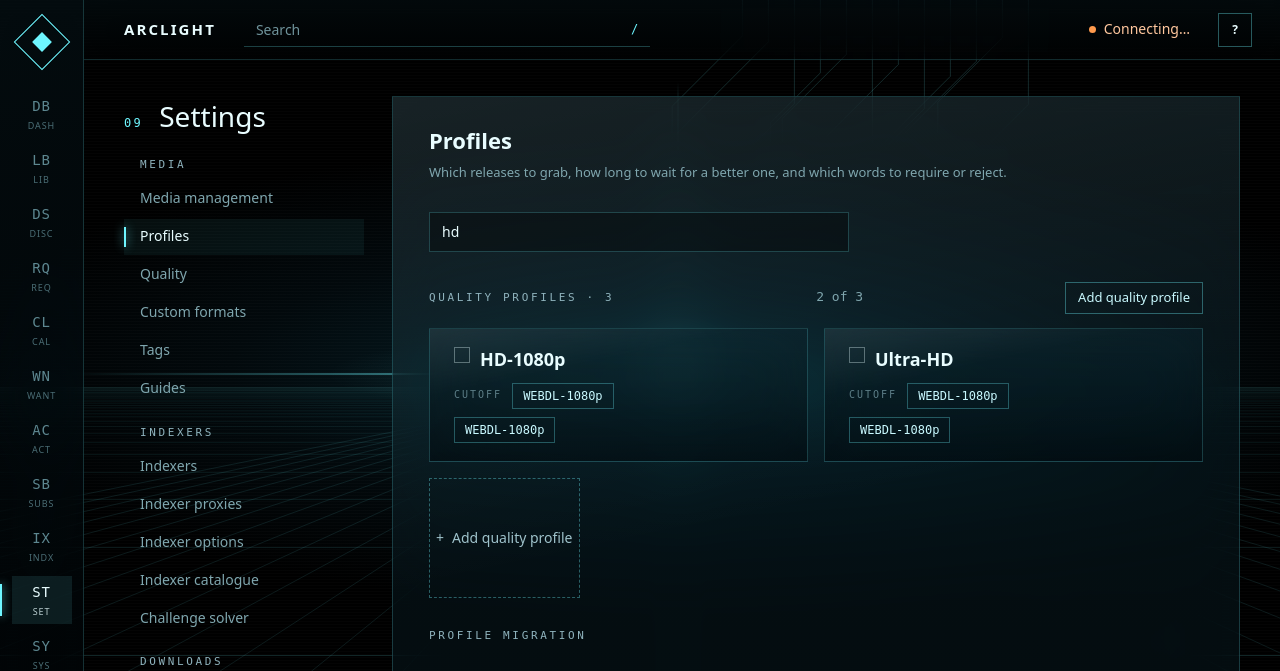
it: profiles page search › filters quality and release profile cards by name and terms, each with "N of M"
This screenshot has width=1280, height=671.
Check: the button "Any" is not shown
Check: the button "HD-1080p" is shown, box x1=480 y1=347 x2=783 y2=371
Replace the text in the search field named "Search this list" with "subsplease" at (639, 232), box x1=429 y1=212 x2=849 y2=252
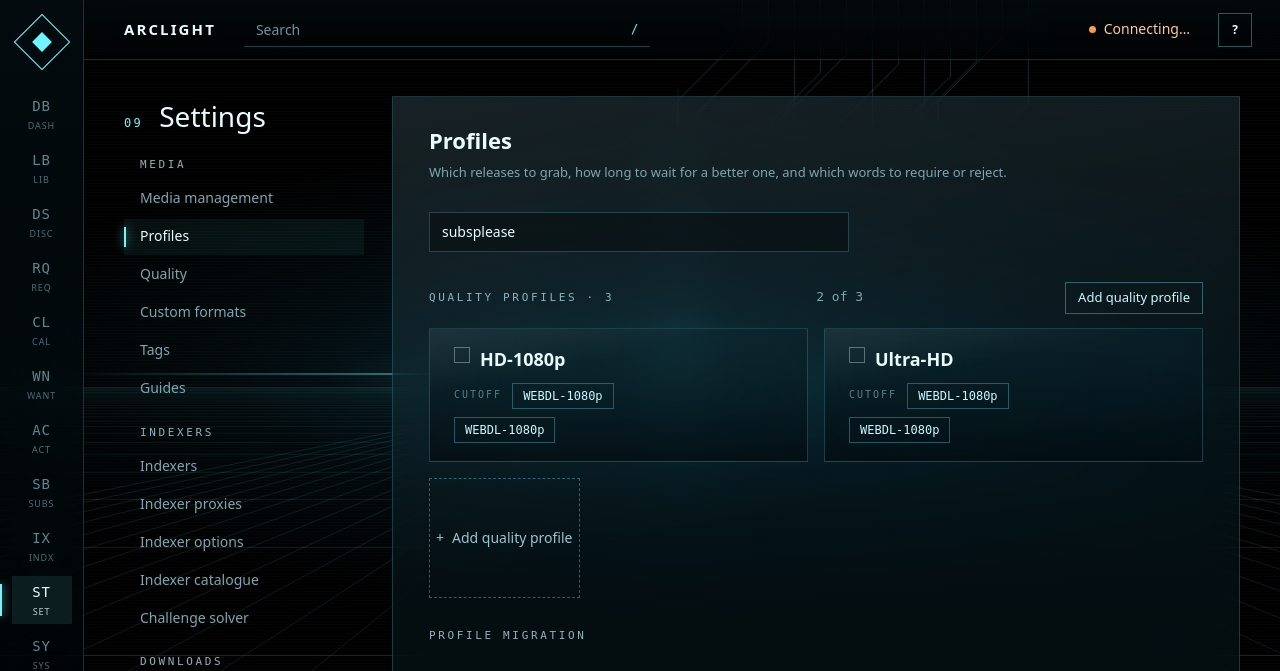
Press Enter in the search field named "Search this list", box x1=429 y1=212 x2=849 y2=252
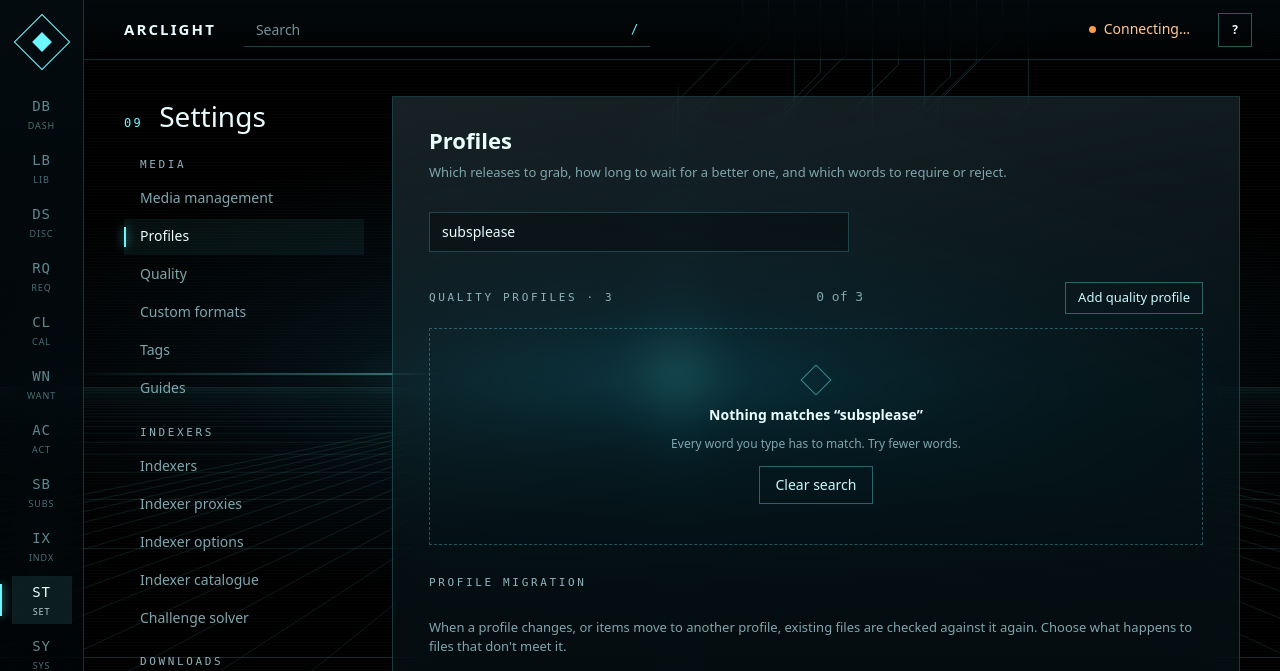
// No quality profile matches: that section offers Clear search.
Click the button "Clear search" at (816, 485), box x1=758 y1=466 x2=874 y2=504
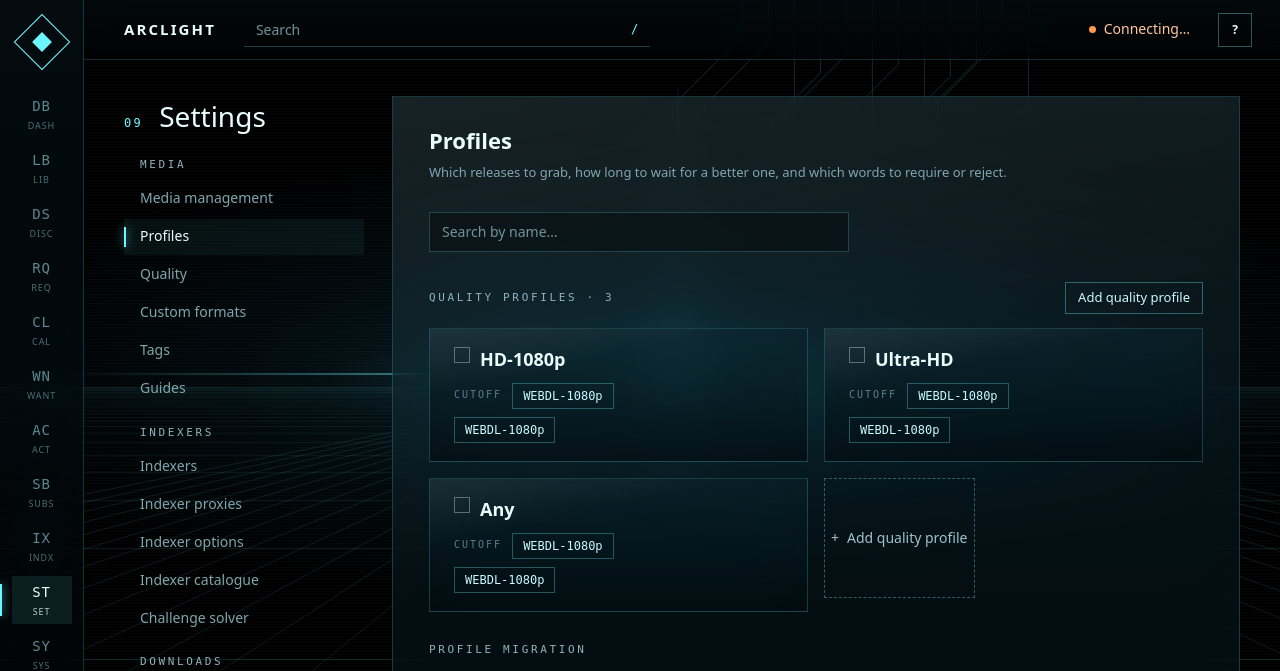
Check: the button "Any" is shown, box x1=480 y1=497 x2=783 y2=521
